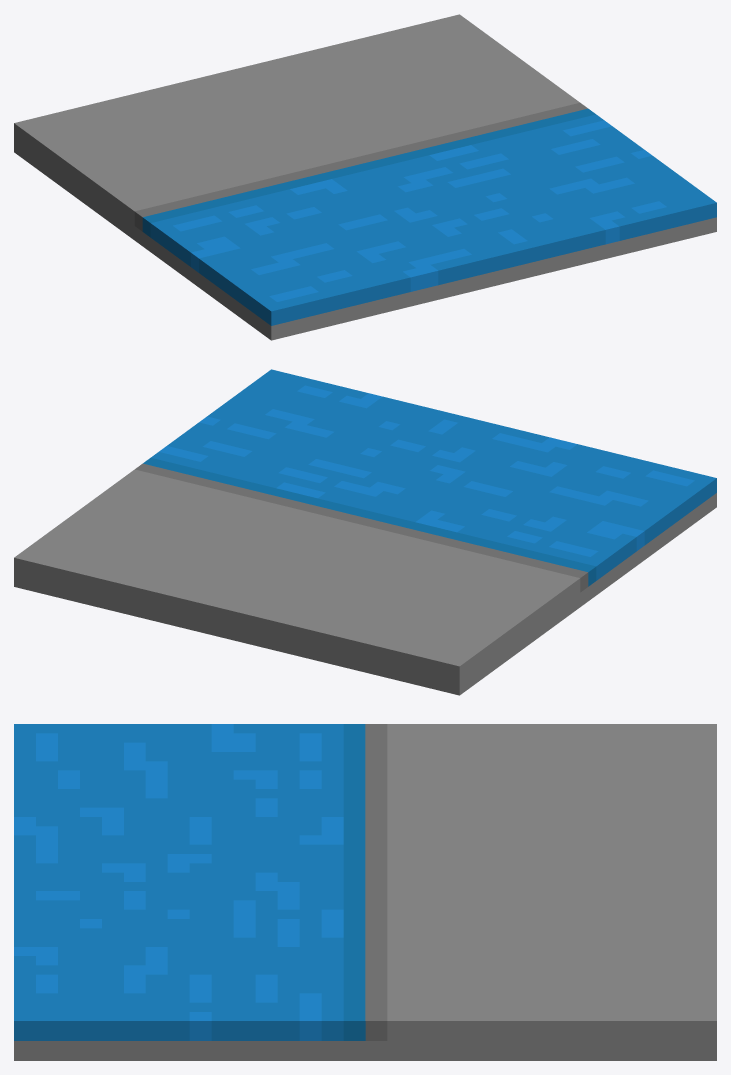
Rendered from city-water-side-4.gltf.
3 renders of one model, top to bottom at view 1: azimuth 30°, elevation 25°; view 2: azimuth 150°, elevation 25°; view 3: azimuth 270°, elevation 25°, orthographic. The views are drawn at different scales.
Parts seen in each view (by area): view 1: city-water-side-4_model; view 2: city-water-side-4_model; view 3: city-water-side-4_model.
Part boxes in pixels (bbox=[...]): city-water-side-4_model: bbox=[14, 14, 716, 340]; city-water-side-4_model: bbox=[14, 369, 716, 695]; city-water-side-4_model: bbox=[14, 724, 716, 1060].
Size of the model in its own units: 3.2 by 0.2 by 3.2.
1 material, 1 textured.
